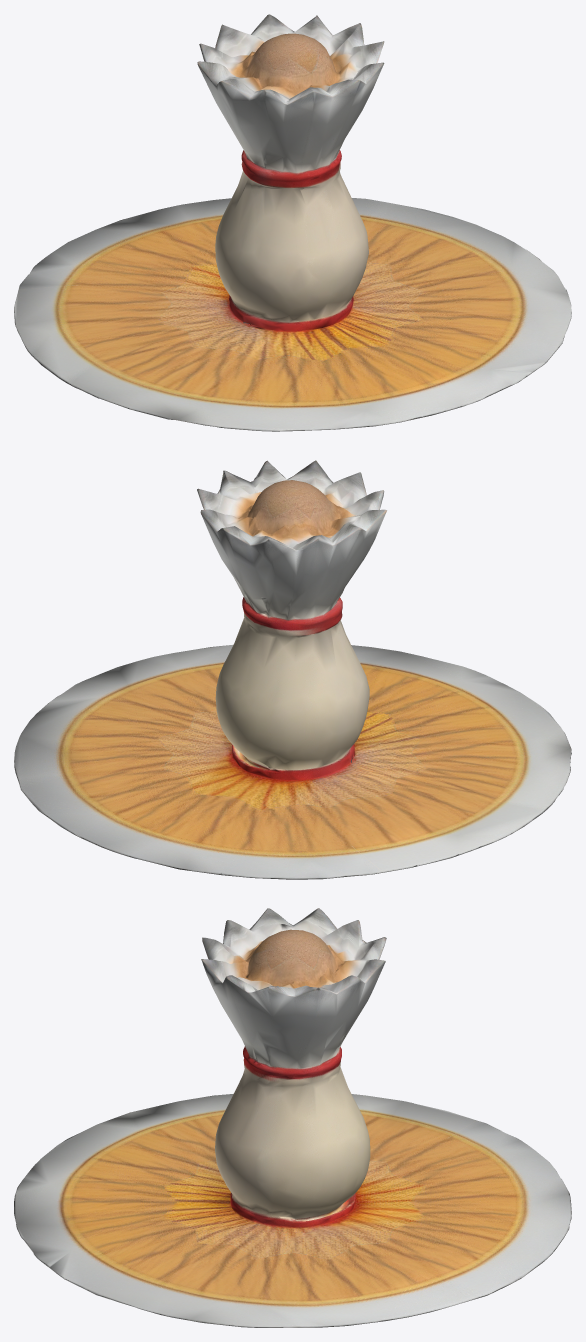
Rendered from shuttlecock.glb.
3 renders of one model, top to bottom at view 1: azimuth 30°, elevation 25°; view 2: azimuth 150°, elevation 25°; view 3: azimuth 270°, elevation 25°, orthographic.
Size of the model in its own units: 2 by 1.1 by 2.
Materials: 1 (1 with a texture image).
